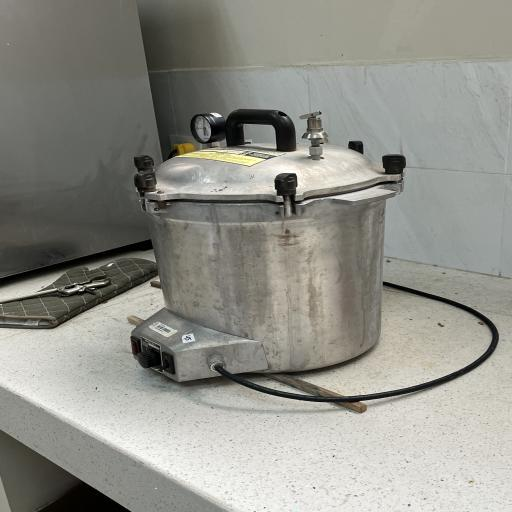Autoclave: (118, 100, 444, 392)
